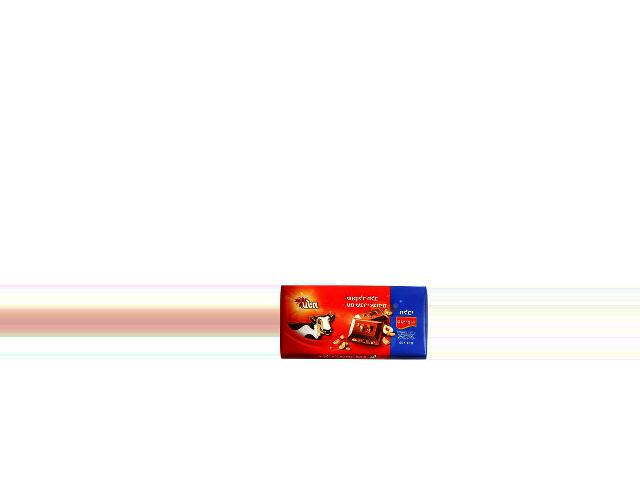chocolate: (280, 286, 425, 365)
